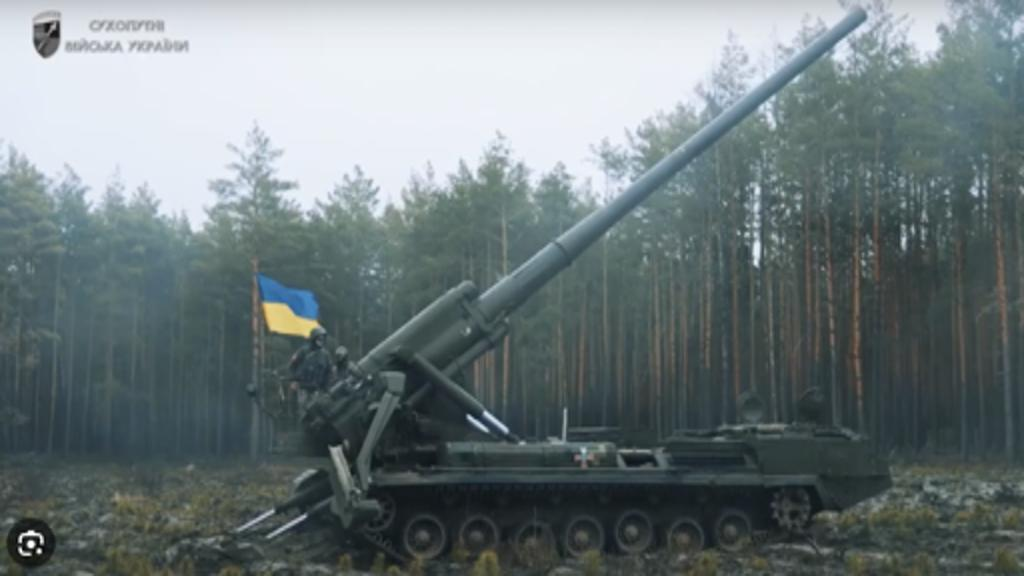ART: (182, 7, 886, 564)
